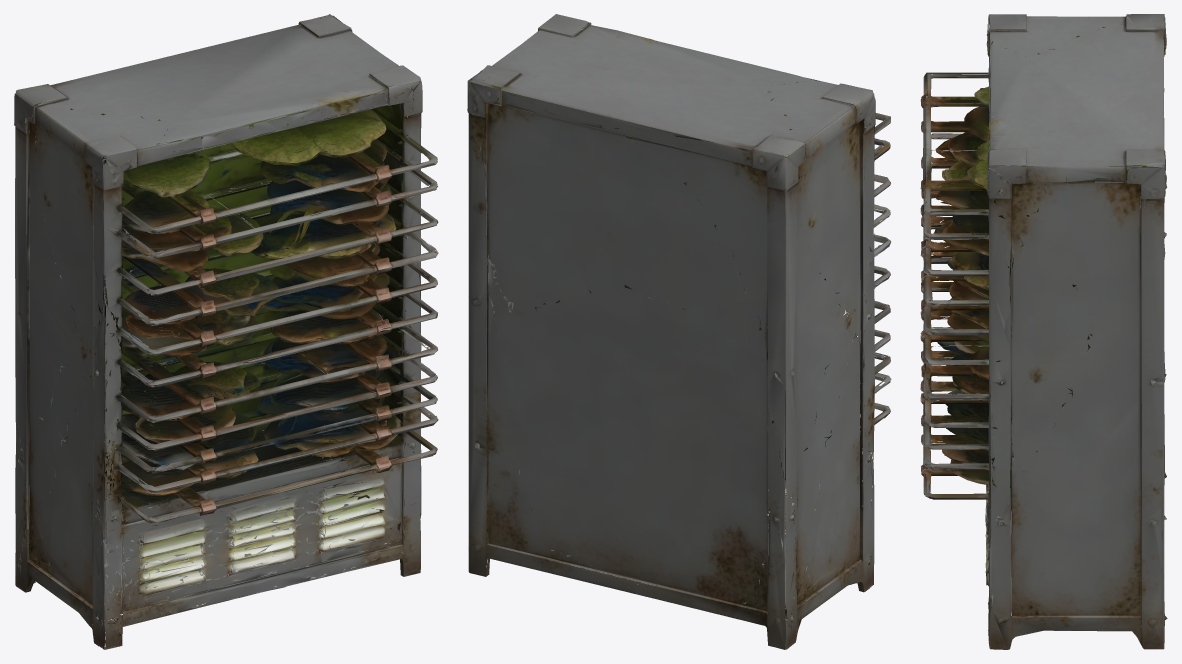
Rendered from tallow_apothecary_dryer_rack.glb.
3 renders of one model, left to right at view 1: azimuth 30°, elevation 25°; view 2: azimuth 150°, elevation 25°; view 3: azimuth 270°, elevation 25°, orthographic. The views are drawn at different scales.
Parts seen in each view (by area): view 1: node_0; view 2: node_0; view 3: node_0.
Boxes of the visible parts, x1,y1,x2,y2 form: node_0: (14,14,438,649); node_0: (467,14,891,649); node_0: (920,14,1167,649).
Size of the model in its own units: 0.6423 by 0.9369 by 0.4329.
1 material, 1 textured.
